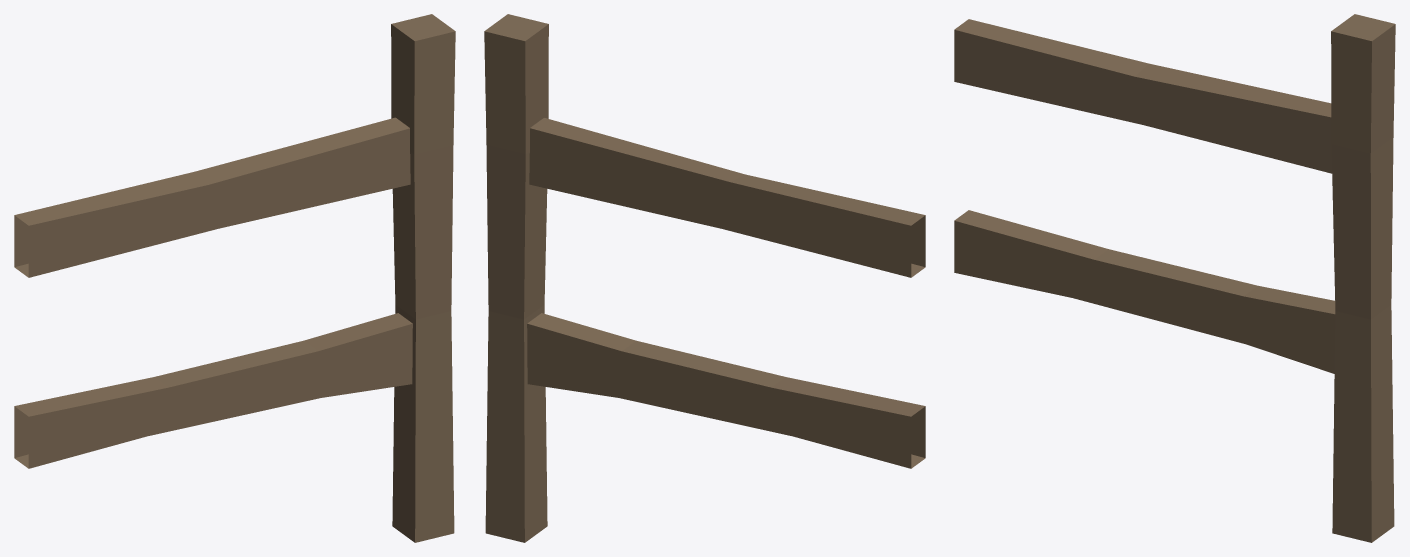
File: fence_b_1m_01.FBX
The picture shows the model from 3 angles, left to right: view 1: azimuth 30°, elevation 25°; view 2: azimuth 150°, elevation 25°; view 3: azimuth 330°, elevation 25°; orthographic projection.
Visible parts, largest first — view 1: fence_b_1m_01; view 2: fence_b_1m_01; view 3: fence_b_1m_01.
Part boxes in pixels (bbox=[...]): fence_b_1m_01: bbox=[14, 14, 455, 542]; fence_b_1m_01: bbox=[484, 14, 925, 542]; fence_b_1m_01: bbox=[954, 14, 1395, 542].
Bounding box in the file's own units: 1.04 × 1.18 × 0.1005.
